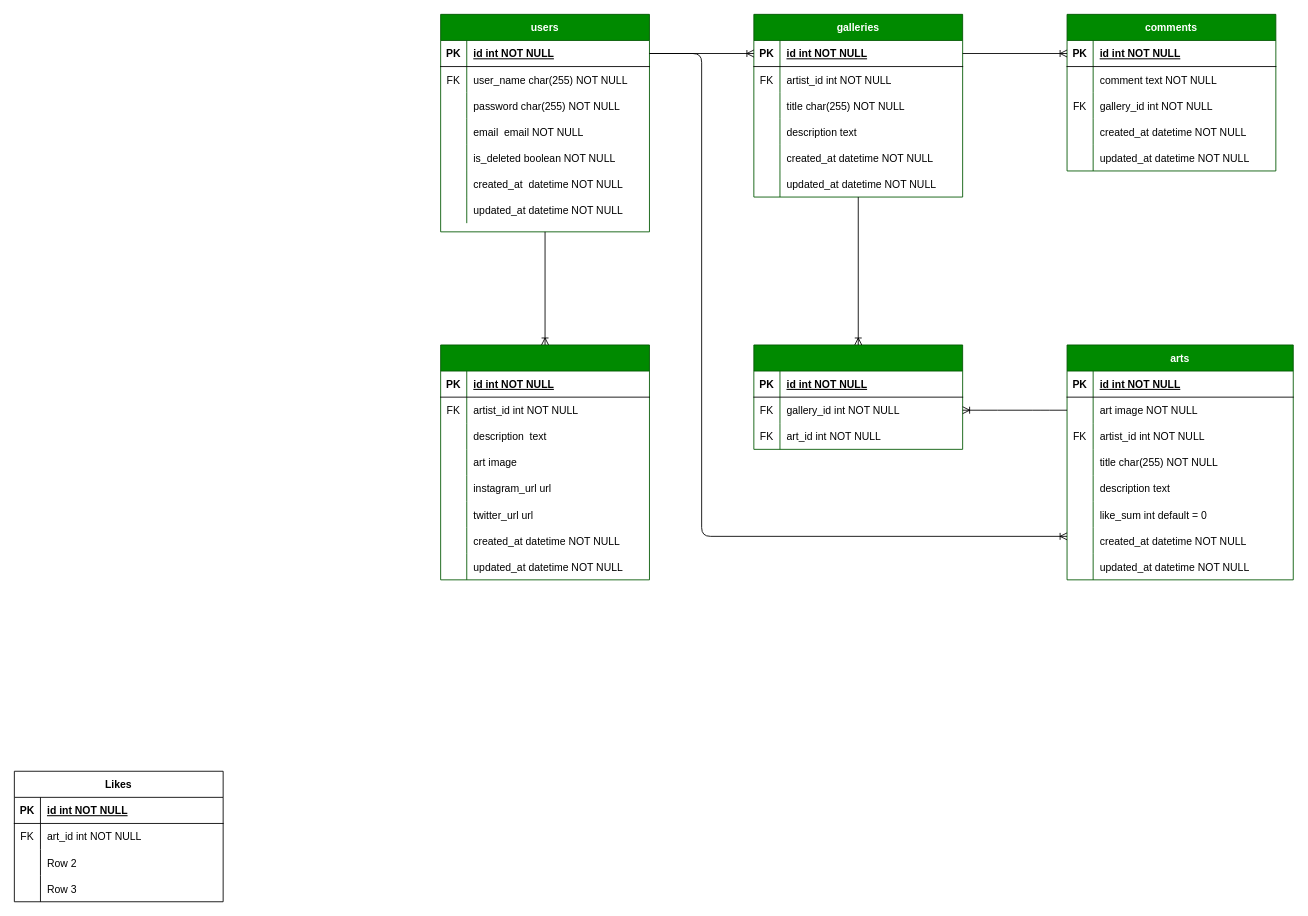
This 1308x916 diagram has some shape labels left out. Each missing label, with the box of its shape:
gallery_arts: (753, 344, 963, 449)
homes: (440, 344, 649, 580)
